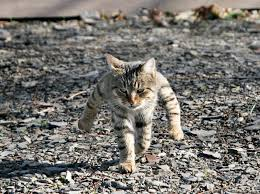cat: (99, 47, 164, 115)
